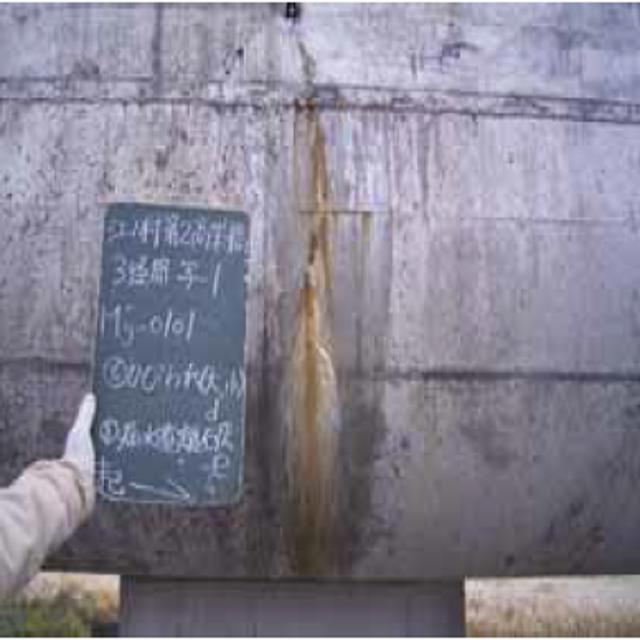freelime: (280, 116, 349, 547)
